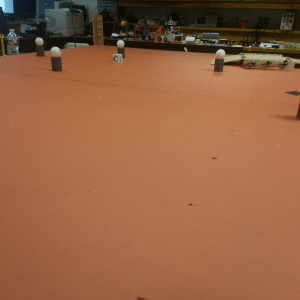blockC: (111, 54, 123, 64)
corner: (91, 14, 103, 46)
obstacle: (50, 46, 61, 75), (213, 48, 225, 73), (115, 40, 126, 59), (34, 37, 44, 57)
side: (243, 57, 293, 69)
slope: (213, 52, 241, 70)
